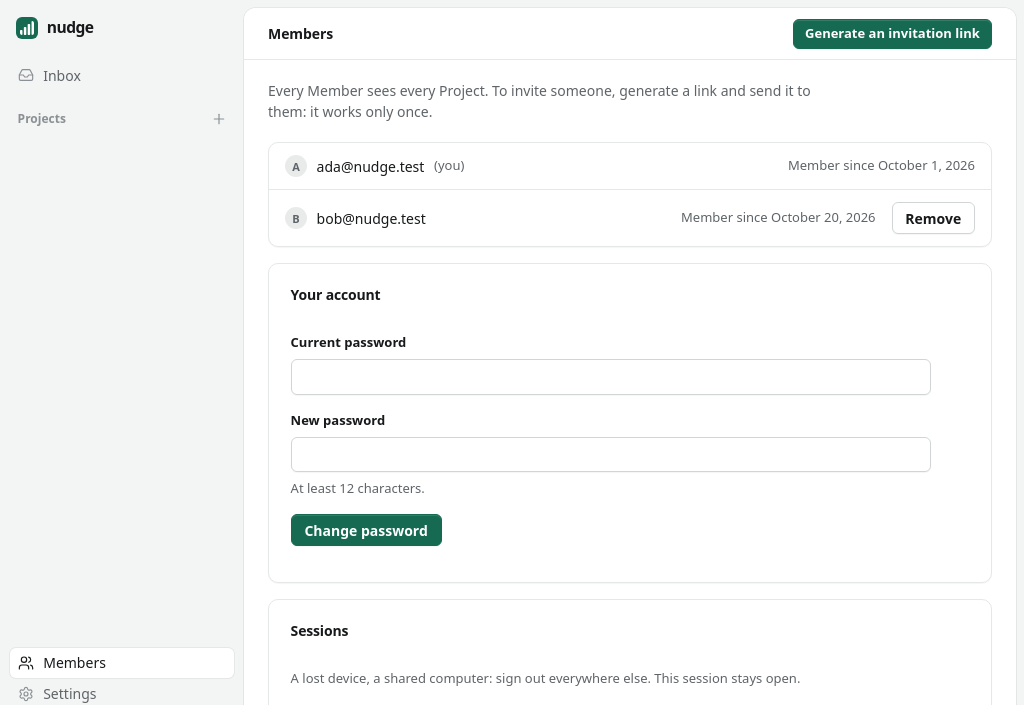
it: Members: removal › removes another Member after confirmation, never oneself
This screenshot has width=1024, height=705.
Step 1. Click the button with aria-label "Remove bob@nudge.test" → click(933, 218), box [892,202,975,234]
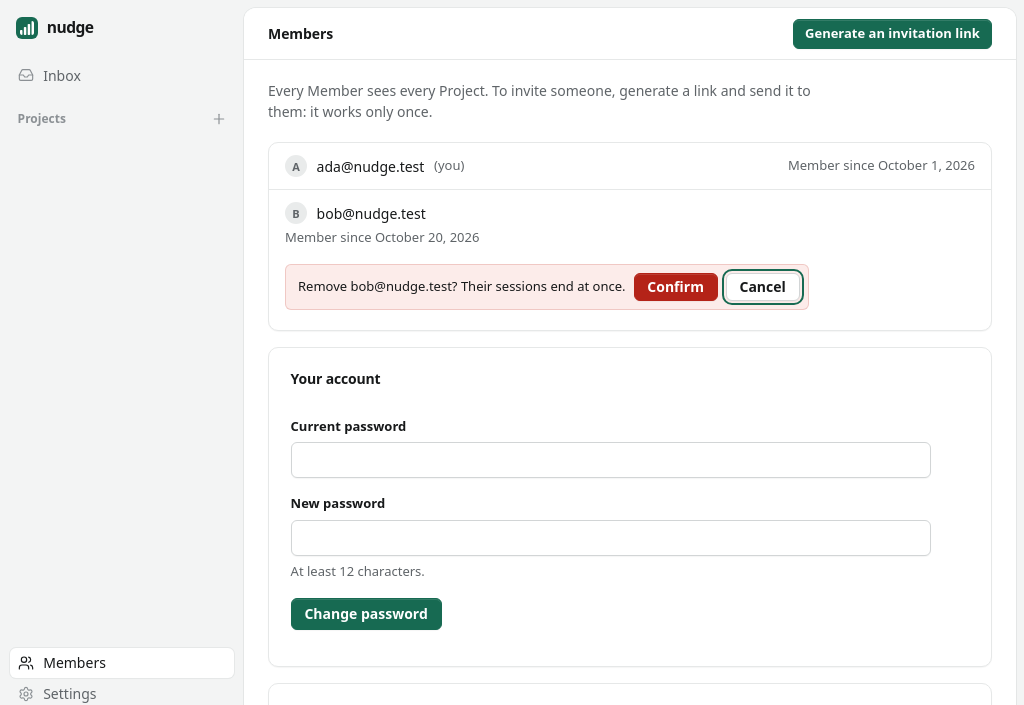
Step 2. Click the button "Confirm" → click(676, 286), box [634,272,718,300]
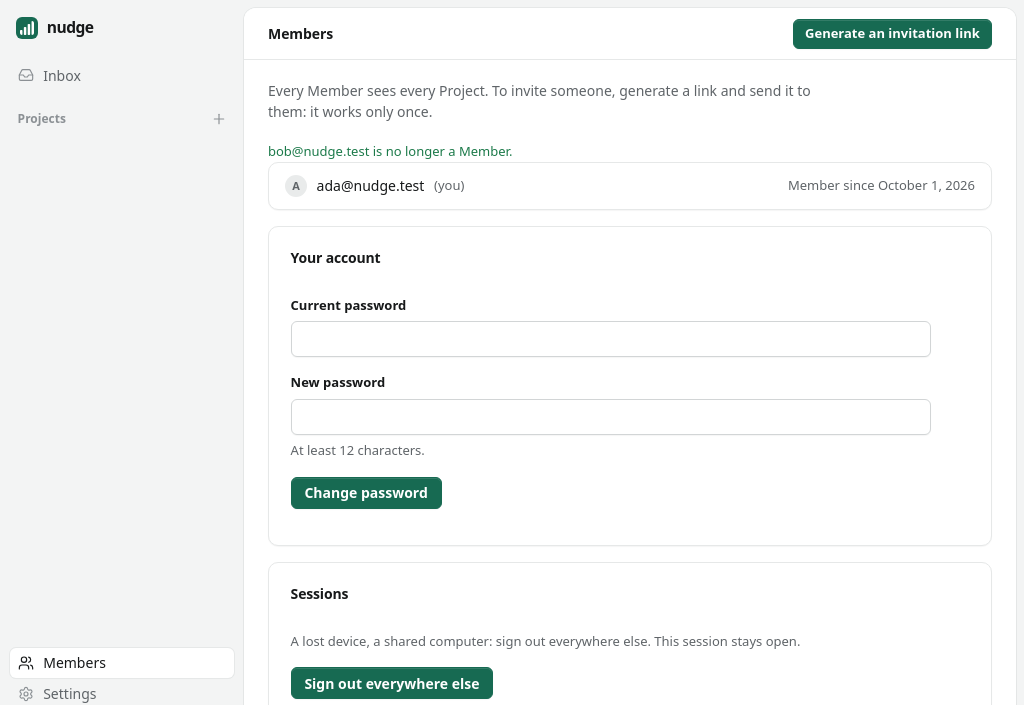
Expected: the text "bob@nudge.test is no longer a Member." is shown, [268,142,512,160]
Expected: the number of list items is 1, [285,174,975,196]
